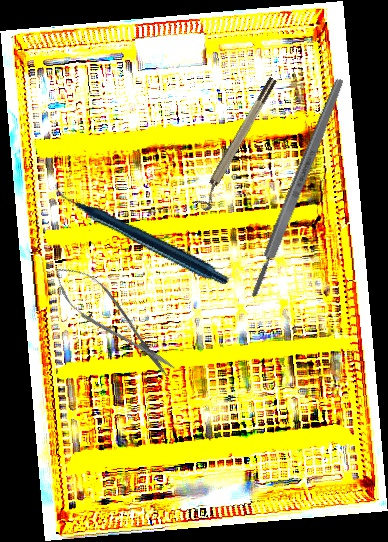Fixation Ring: (191, 75, 285, 213)
Handpiece: (53, 133, 231, 333)
Micro Scissor: (43, 254, 185, 387)
Scalpel Handle: (246, 76, 348, 300)
